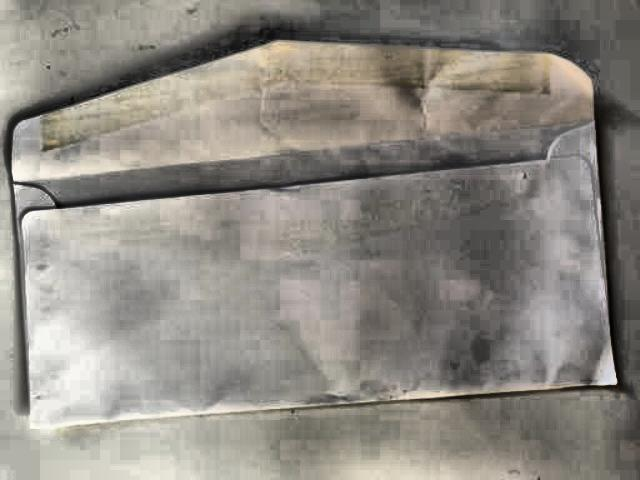Paper: (2, 18, 640, 423)
